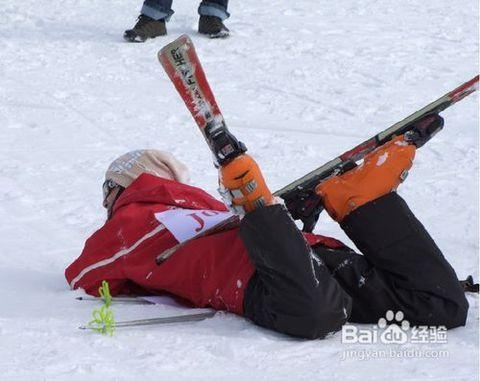falling: (51, 70, 477, 350)
